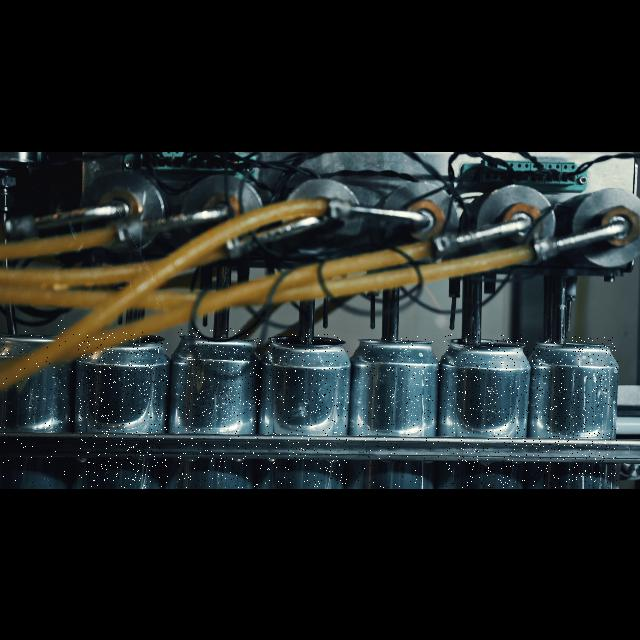empty: (78, 332, 168, 488), (178, 328, 262, 488), (444, 332, 528, 488), (532, 336, 618, 488), (358, 336, 442, 488), (266, 334, 348, 488), (0, 320, 74, 488)
